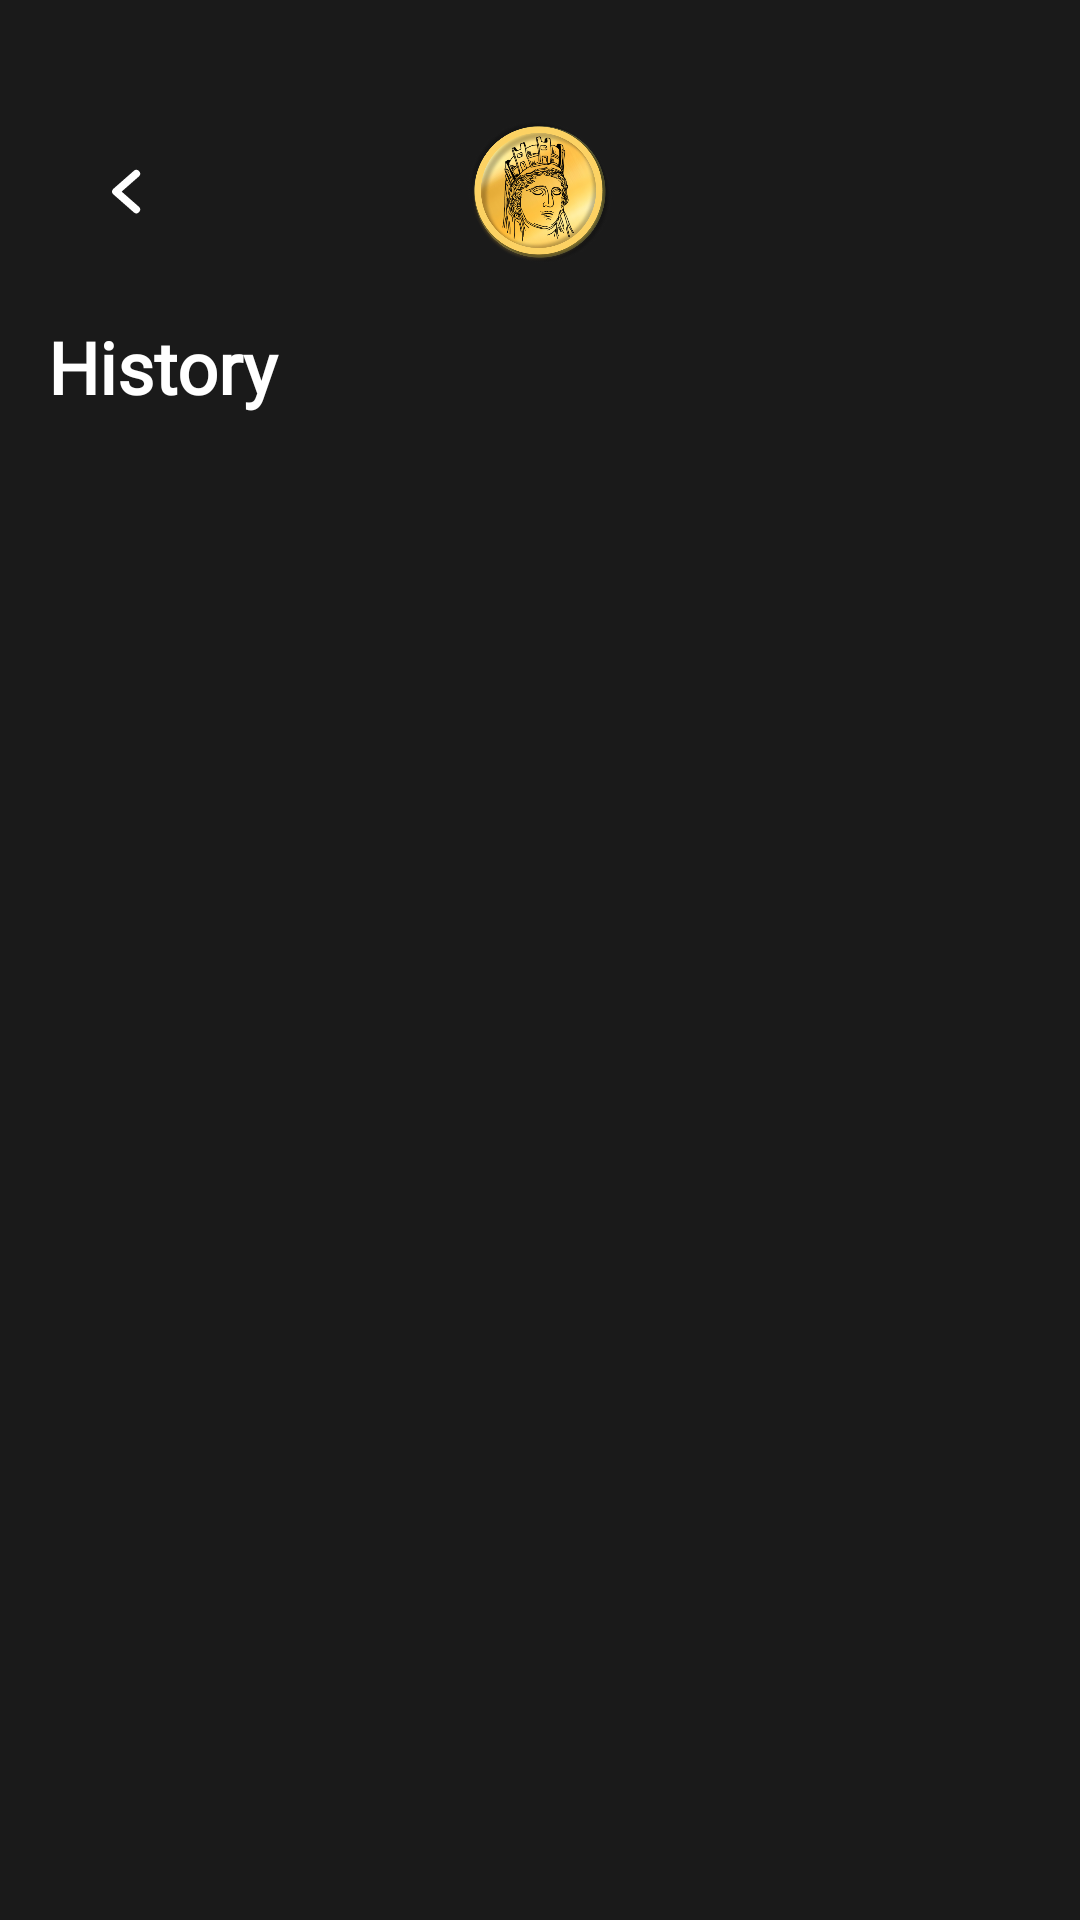

Named icons in this screenshot (1080x1920) and their bounding boxes, (x1=x1, y1=y1, x2=x2, y2=y2):
caret left sm: (x1=112, y1=169, x2=141, y2=214)
